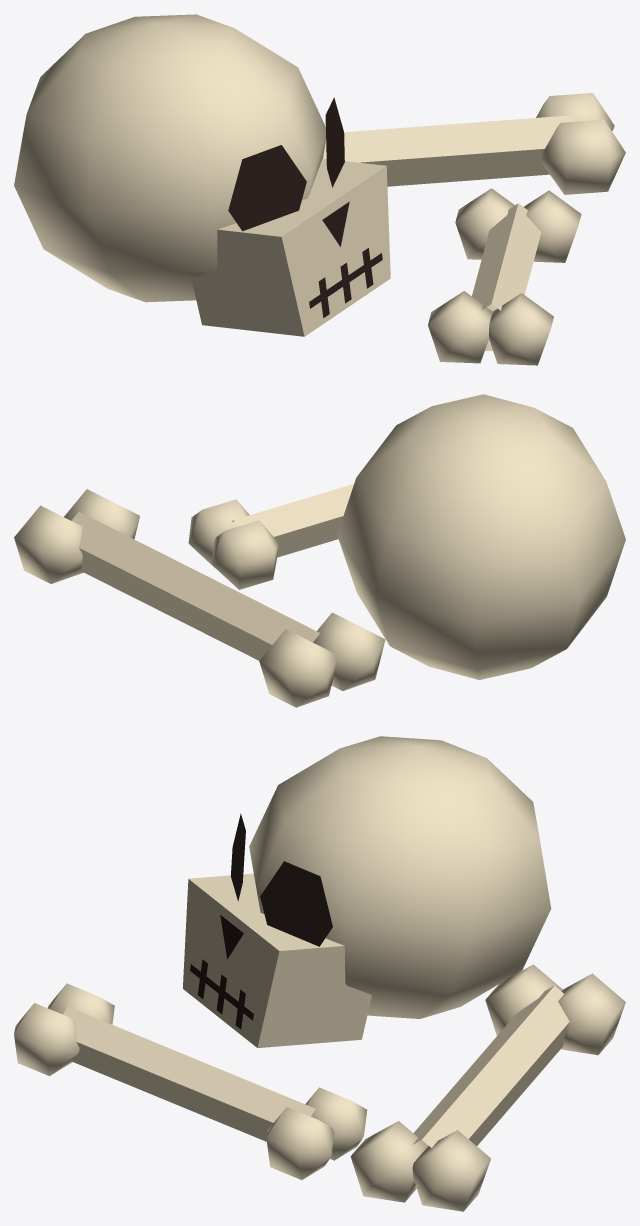
The model's file is bones.glb.
3 views of the same model, one above another, from view 1: azimuth 30°, elevation 25°; view 2: azimuth 150°, elevation 25°; view 3: azimuth 270°, elevation 25° (orthographic). The views are drawn at different scales.
Visible parts, largest first — view 1: bones; view 2: bones; view 3: bones.
Boxes of the visible parts, <box> form: bones: <box>14,14,625,365</box>; bones: <box>14,394,625,707</box>; bones: <box>14,736,625,1211</box>.
Size of the model in its own units: 0.4483 by 0.1951 by 0.4101.
